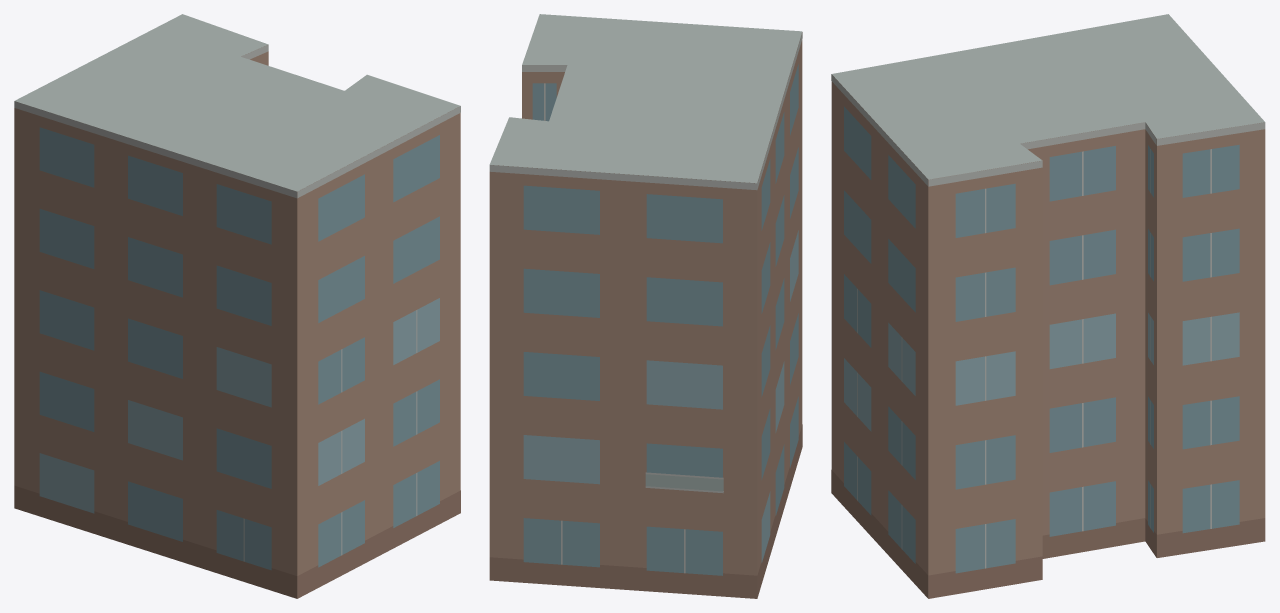
Rendered from survey-upis-33021424.glb.
3 renders of one model, left to right at view 1: azimuth 30°, elevation 25°; view 2: azimuth 150°, elevation 25°; view 3: azimuth 270°, elevation 25°, orthographic. The views are drawn at different scales.
Parts seen in each view (by area): view 1: survey-upis-33021424.tmp; view 2: survey-upis-33021424.tmp; view 3: survey-upis-33021424.tmp.
Boxes of the visible parts, x1=… form: survey-upis-33021424.tmp: x1=14, y1=14, x2=460, y2=598; survey-upis-33021424.tmp: x1=489, y1=14, x2=802, y2=598; survey-upis-33021424.tmp: x1=831, y1=14, x2=1265, y2=598.
Size of the model in its own units: 12.38 by 14.6 by 13.7.
